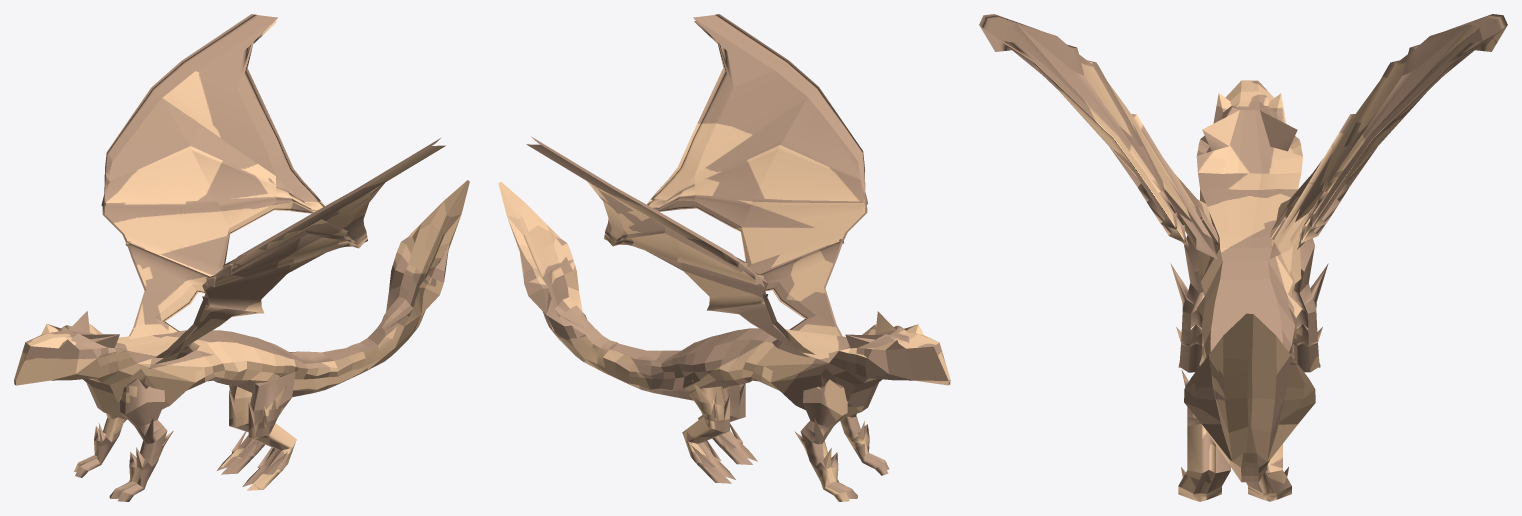
File: dragon fo unity.fbx
3 views of the same model, side by side, from view 1: azimuth 30°, elevation 25°; view 2: azimuth 150°, elevation 25°; view 3: azimuth 270°, elevation 25° (orthographic). The views are drawn at different scales.
Visible parts, largest first — view 1: polySurface94; view 2: polySurface94; view 3: polySurface94.
Part boxes in pixels (box(x1,y1,x2,y2)): polySurface94: box(14, 14, 469, 501); polySurface94: box(498, 14, 950, 501); polySurface94: box(979, 14, 1507, 501).
Size of the model in its own units: 20.43 by 15.99 by 14.06.
